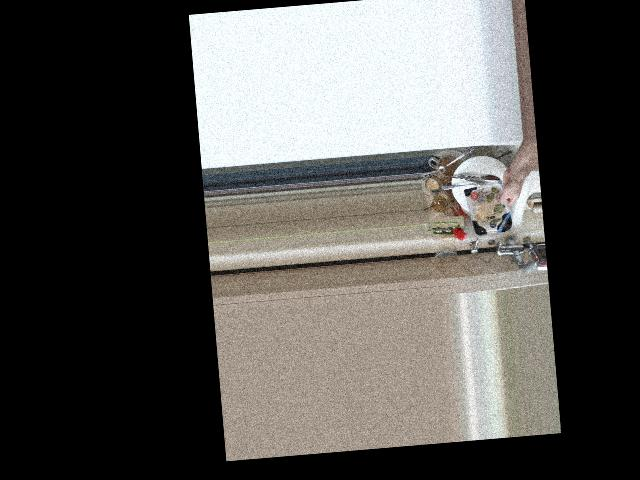cheese: (464, 171, 526, 239)
